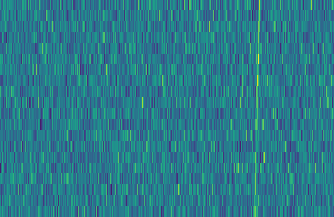signal: (251, 0, 265, 217)
